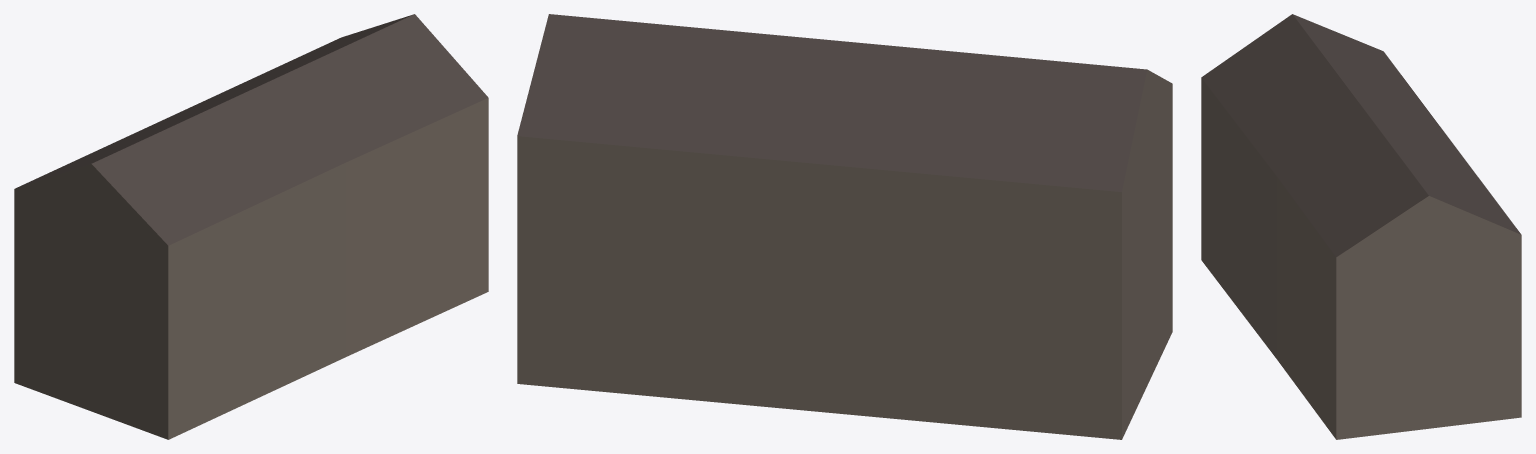
The picture shows the model from 3 angles, left to right: view 1: azimuth 30°, elevation 25°; view 2: azimuth 150°, elevation 25°; view 3: azimuth 270°, elevation 25°; orthographic projection. The views are drawn at different scales.
Visible parts, largest first — view 1: HP-w1196401634; view 2: HP-w1196401634; view 3: HP-w1196401634.
Boxes of the visible parts, x1=… form: HP-w1196401634: x1=14, y1=14, x2=488, y2=439; HP-w1196401634: x1=517, y1=14, x2=1172, y2=439; HP-w1196401634: x1=1201, y1=14, x2=1521, y2=439.
Size of the model in its own units: 14.53 by 7.66 by 9.55.
